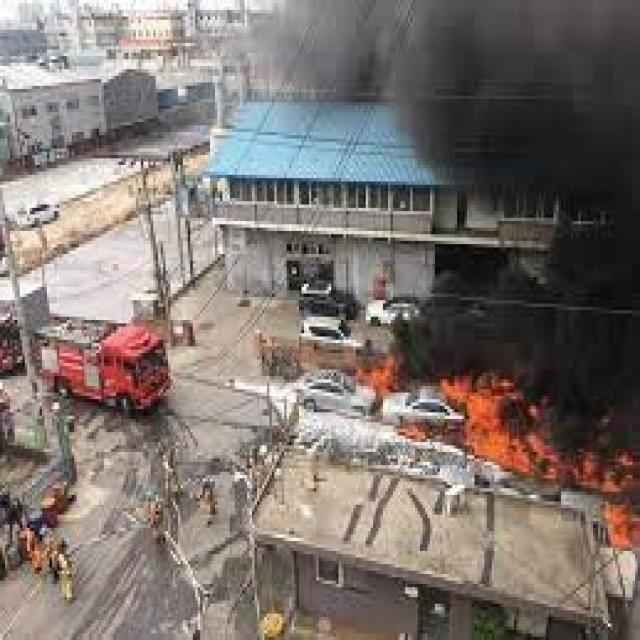Fire: (428, 368, 638, 493), (593, 446, 640, 550), (354, 350, 405, 402), (601, 494, 639, 550), (396, 420, 426, 437)
Smoke: (168, 0, 629, 159), (361, 0, 640, 211)
